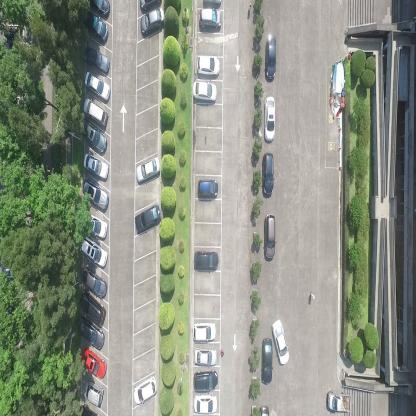car: (78, 289, 106, 327), (134, 201, 162, 235), (80, 119, 107, 154), (271, 316, 290, 365), (78, 315, 105, 349), (80, 265, 107, 299), (80, 236, 108, 268), (82, 178, 110, 210), (82, 43, 110, 75), (83, 70, 111, 101), (81, 345, 107, 378), (135, 153, 161, 186), (82, 151, 108, 182), (82, 96, 108, 127), (83, 9, 108, 41), (133, 374, 158, 405), (141, 5, 165, 37), (82, 377, 105, 409), (84, 209, 108, 239), (262, 211, 274, 262), (264, 94, 276, 144), (326, 389, 351, 413), (193, 250, 220, 272), (262, 150, 274, 198), (198, 6, 222, 30), (193, 368, 218, 391), (193, 80, 217, 103), (265, 33, 276, 83), (261, 339, 273, 384), (197, 53, 220, 76), (193, 320, 217, 342), (193, 393, 218, 414), (195, 346, 217, 366), (197, 179, 218, 198), (89, 0, 111, 18), (138, 0, 161, 14)
